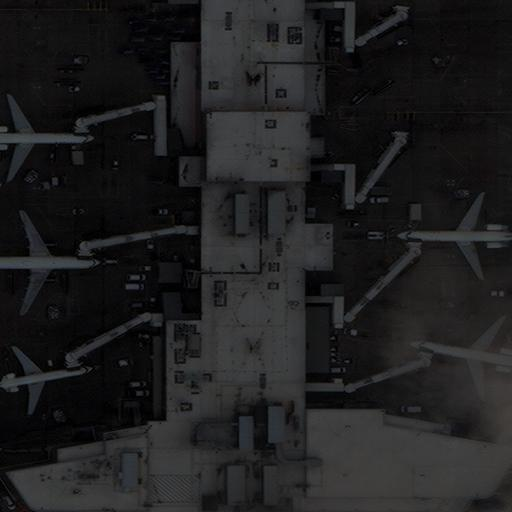Medium Civil Transport: (0, 210, 103, 315), (393, 194, 511, 278), (406, 316, 511, 398), (0, 95, 97, 180), (0, 346, 95, 414)
